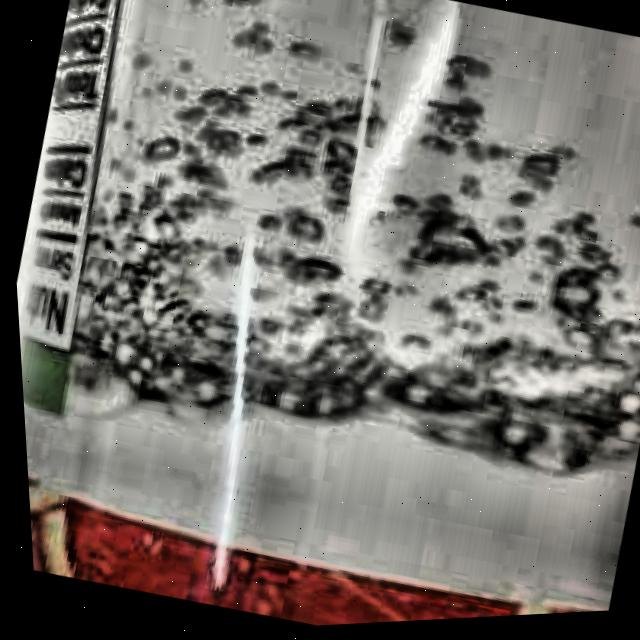metal: (15, 0, 640, 629)
